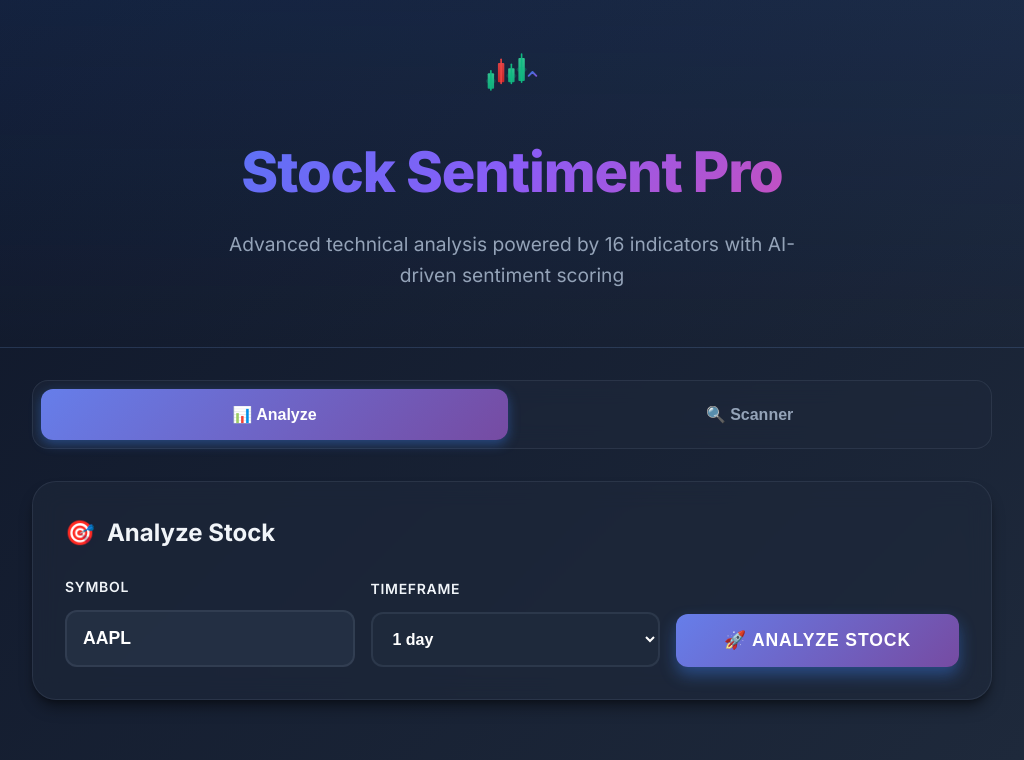
Scenario: Error Handling - Comprehensive Tests › 404 Not Found Handling › handles 404 for invalid symbol
This screenshot has width=1024, height=760.
Replace the text in the field with test id "symbol-input" with "XYZ123" at point(210, 639), box [65,610,354,667]
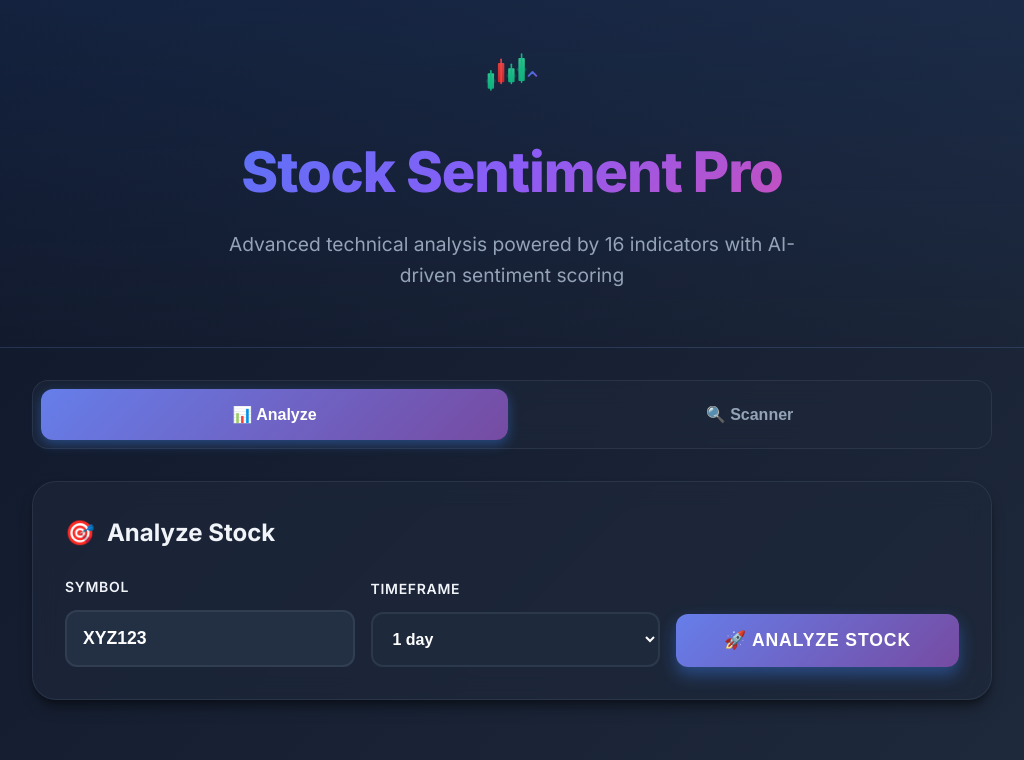
Click the button with test id "analyze-button" at point(818, 641), box [676,614,959,667]
(page scrolled)
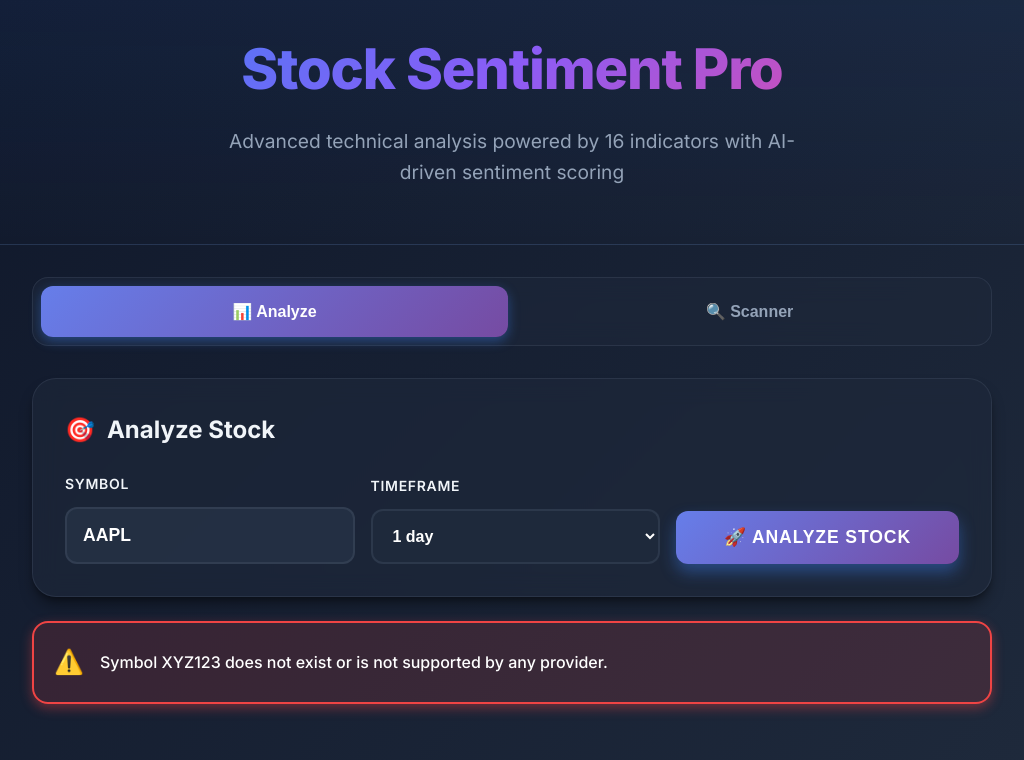
Check: the text "Symbol XYZ123 does not exist" is shown, box [100,652,608,672]
